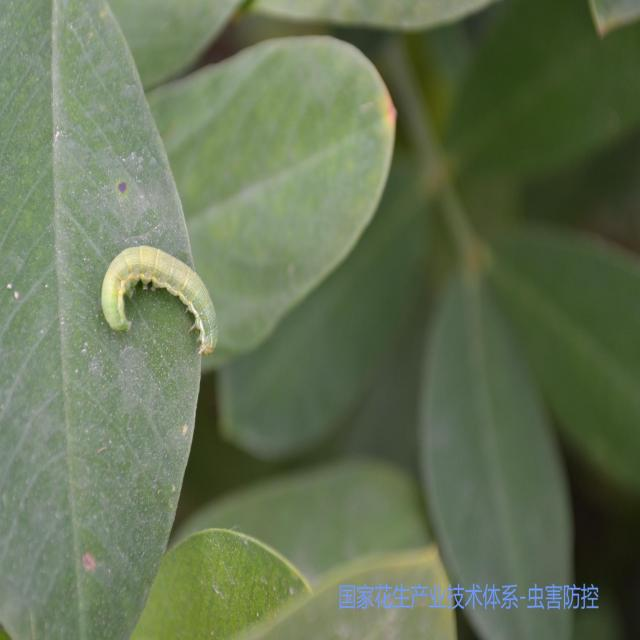BeetArmyWorm-Larva-: (96, 241, 222, 363)
